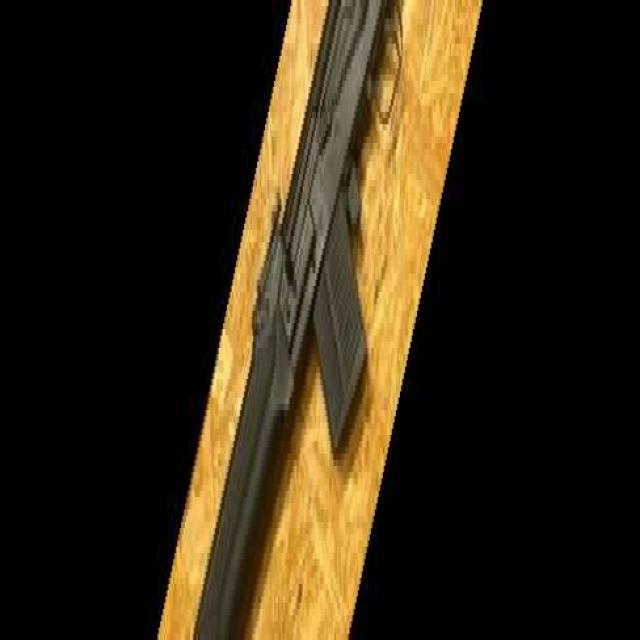weapon: (192, 0, 405, 640)
